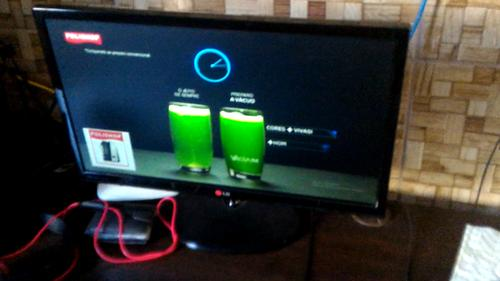Polishop #1: (82, 127, 137, 171)
